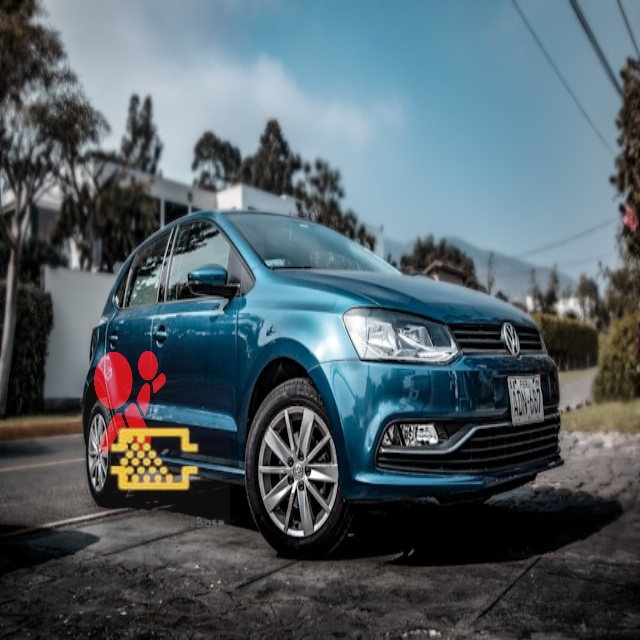symbol: (80, 385, 230, 535), (56, 330, 195, 469)
